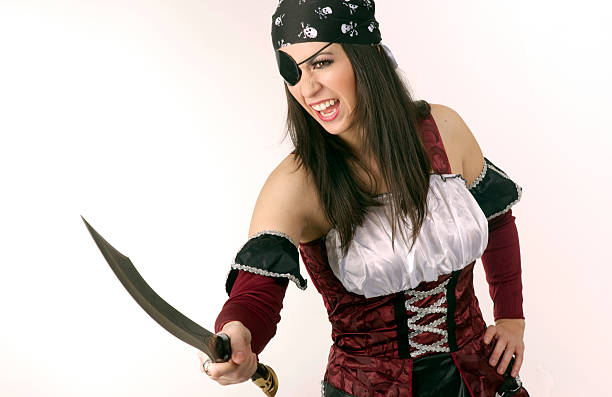knife: (78, 212, 280, 397)
